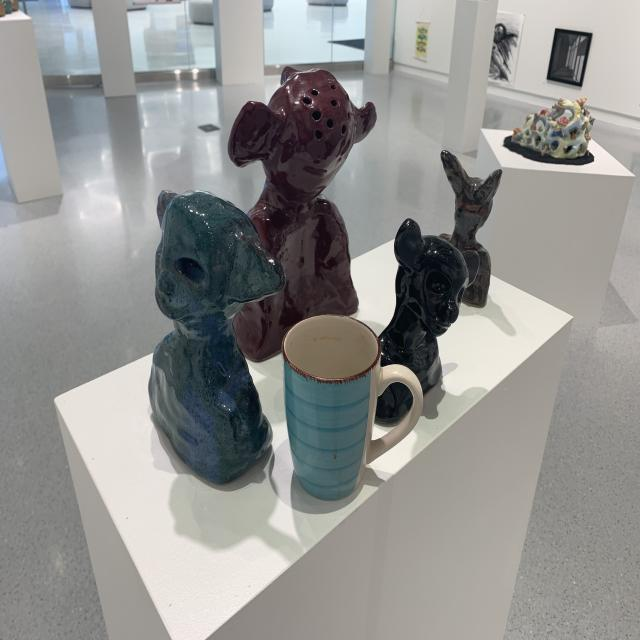Cup: (280, 310, 425, 502)
